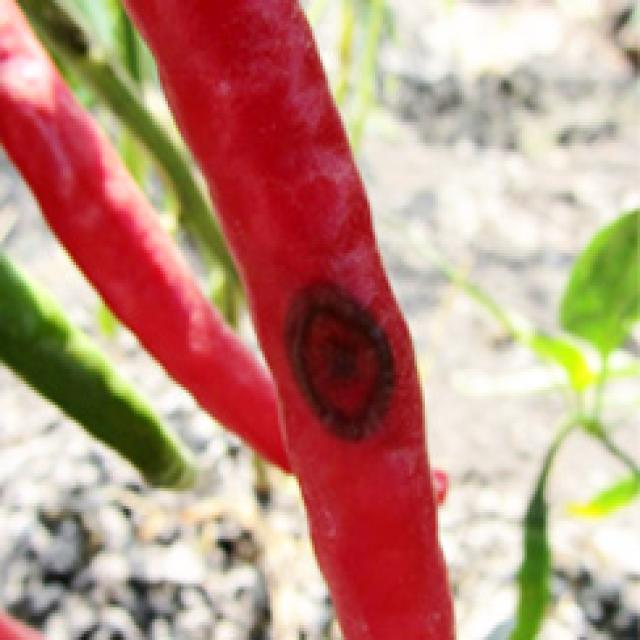Chili_anthracnose: (252, 238, 406, 482)
